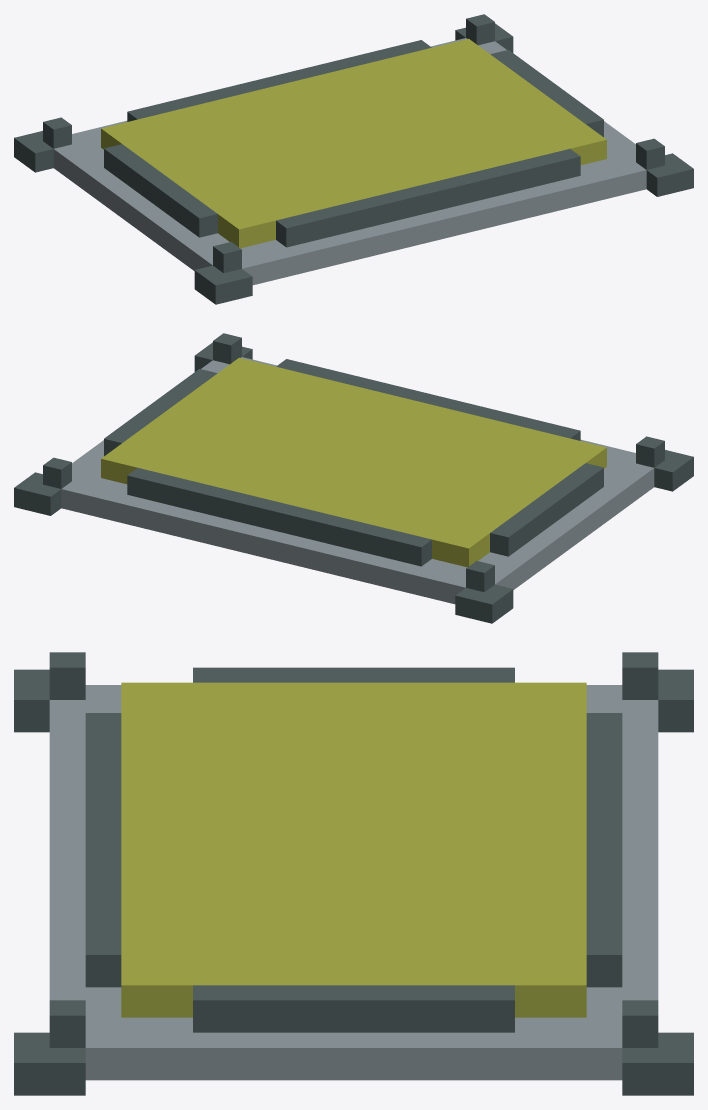
The model's file is yellow puddle.obj.
The picture shows the model from 3 angles, top to bottom: view 1: azimuth 30°, elevation 25°; view 2: azimuth 150°, elevation 25°; view 3: azimuth 270°, elevation 25°; orthographic projection. The views are drawn at different scales.
Bounding box in the file's own units: 2.6 × 0.2 × 1.9.
Materials: 1 (1 with a texture image).
